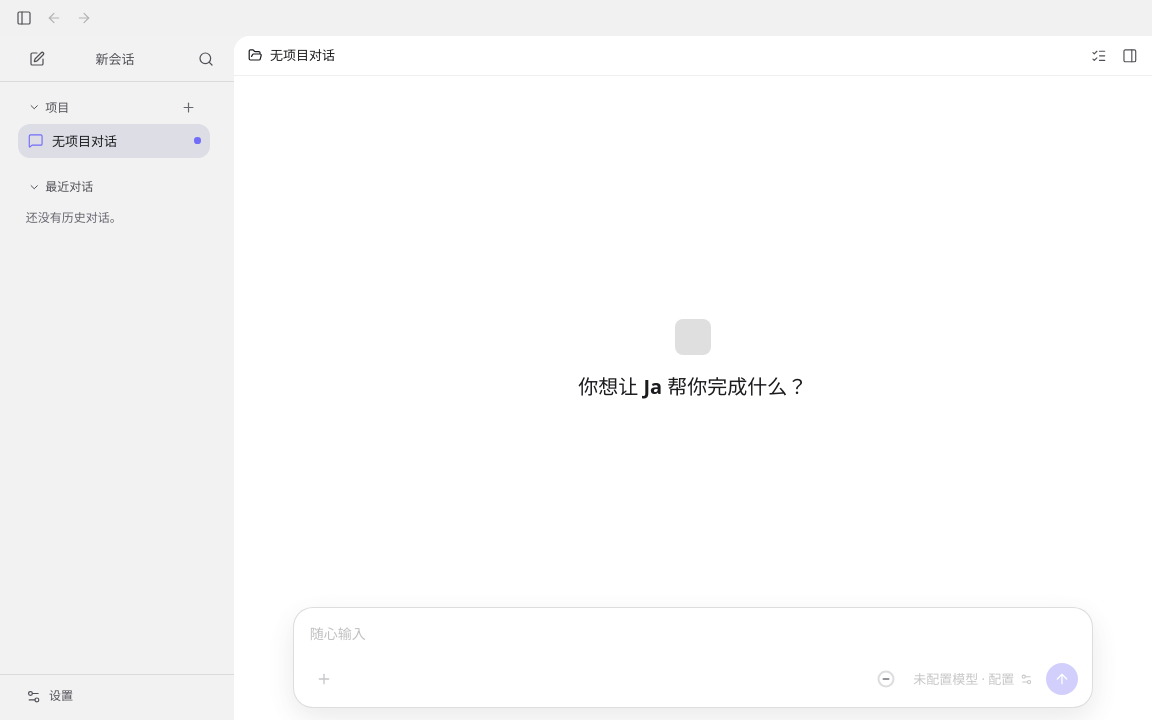
Ja desktop shell v1 › keeps workspace and Settings reachable with an empty app-server-owned configuration
Click the button "设置" at x=120, y=696, box x1=18 y1=680 x2=222 y2=712
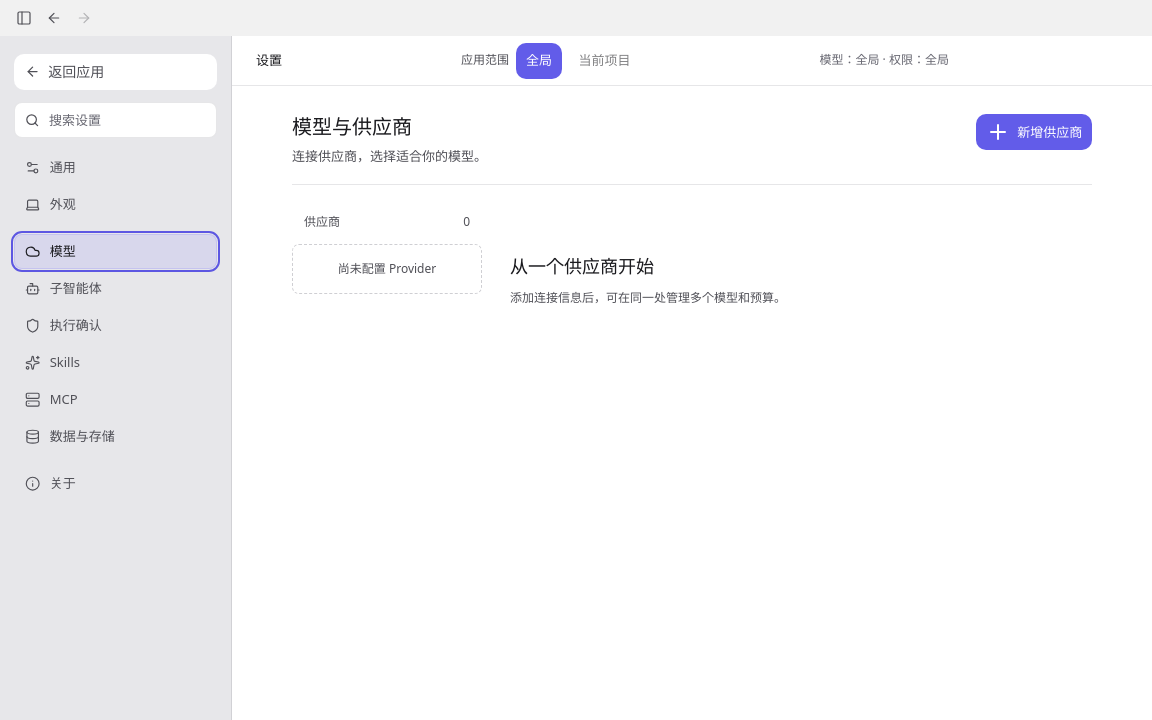
expect the element named "设置页面" is shown: met
expect the button "当前项目" is disabled: met, box x1=569 y1=42 x2=640 y2=78
